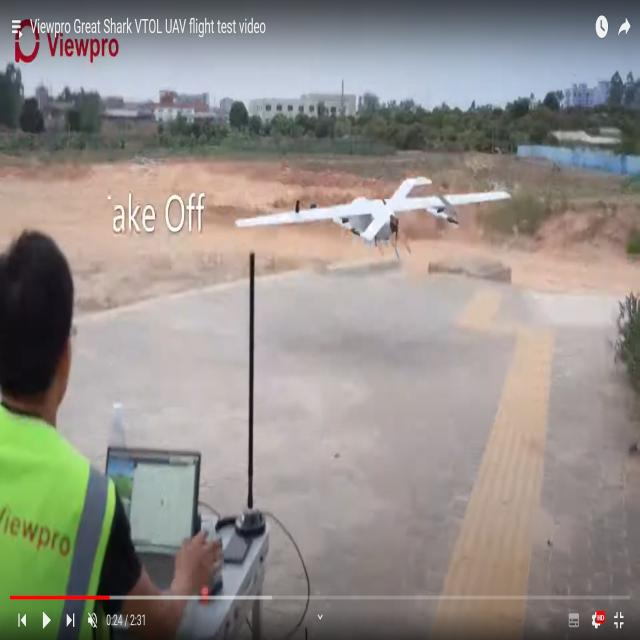iha: (233, 209, 512, 214)
